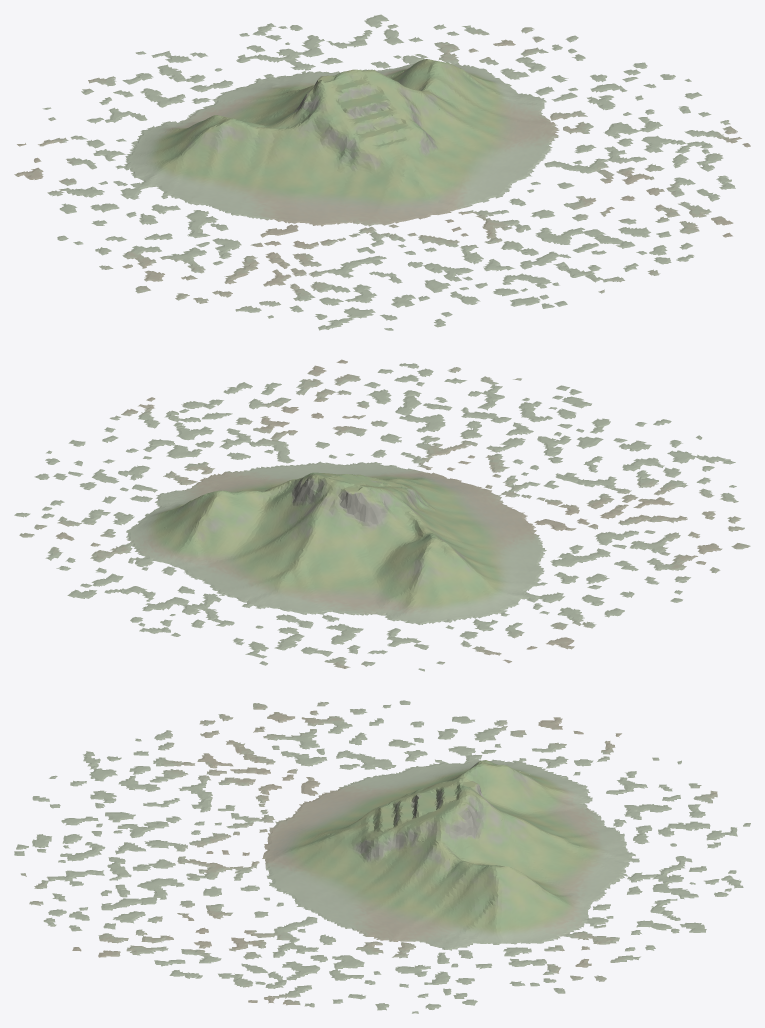
File: sect_luanming_ground.glb
3 renders of one model, top to bottom at view 1: azimuth 30°, elevation 25°; view 2: azimuth 150°, elevation 25°; view 3: azimuth 270°, elevation 25°, orthographic.
Visible parts, largest first — view 1: ground; view 2: ground; view 3: ground.
Boxes of the visible parts, left/top/right/bottom form: ground: left=14, top=14, right=750, bottom=330; ground: left=14, top=359, right=750, bottom=671; ground: left=14, top=700, right=750, bottom=1013.
Bounding box in the file's own units: 3390 × 339 × 3372.
